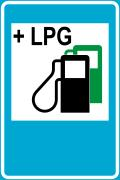Petrol Pump- Gas Station: (8, 18, 114, 128)
